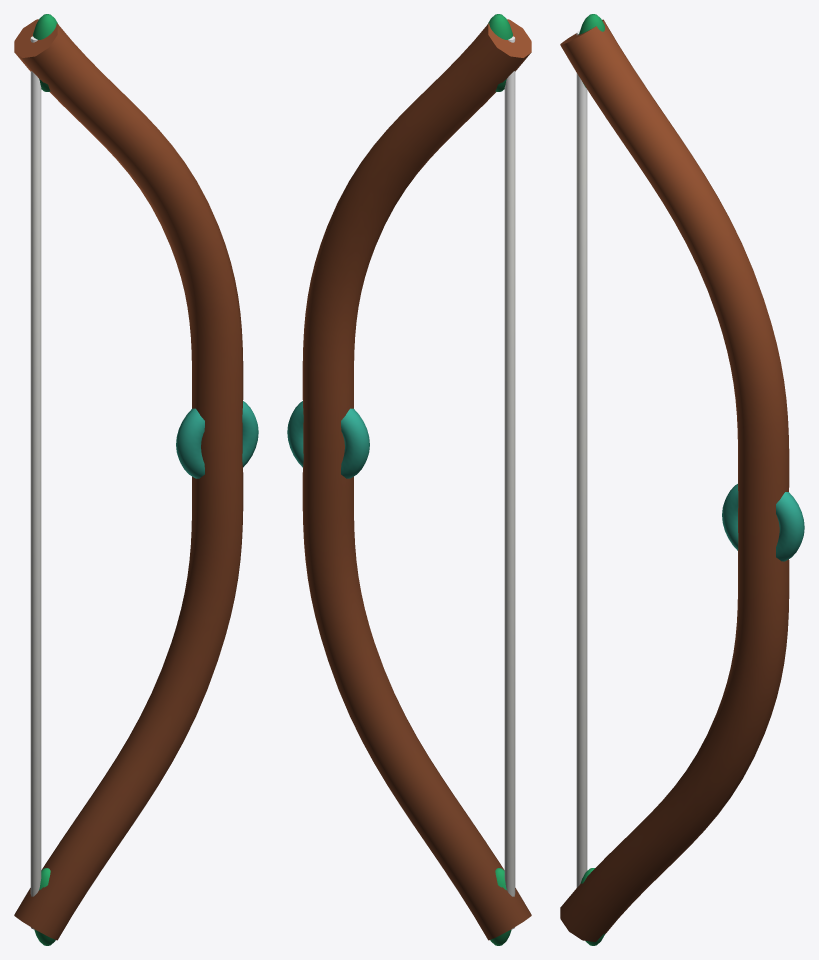
File: arco_maya.glb
3 views of the same model, side by side, from view 1: azimuth 30°, elevation 25°; view 2: azimuth 150°, elevation 25°; view 3: azimuth 330°, elevation 25° (orthographic).
Visible parts, largest first — view 1: arco_maya_fijo; view 2: arco_maya_fijo; view 3: arco_maya_fijo.
Boxes of the visible parts, x1=… form: arco_maya_fijo: x1=14, y1=14, x2=258, y2=945; arco_maya_fijo: x1=287, y1=14, x2=531, y2=945; arco_maya_fijo: x1=560, y1=14, x2=804, y2=945.
Bounding box in the file's own units: 0.4212 × 1.57 × 0.08.
1 material, 1 textured.
